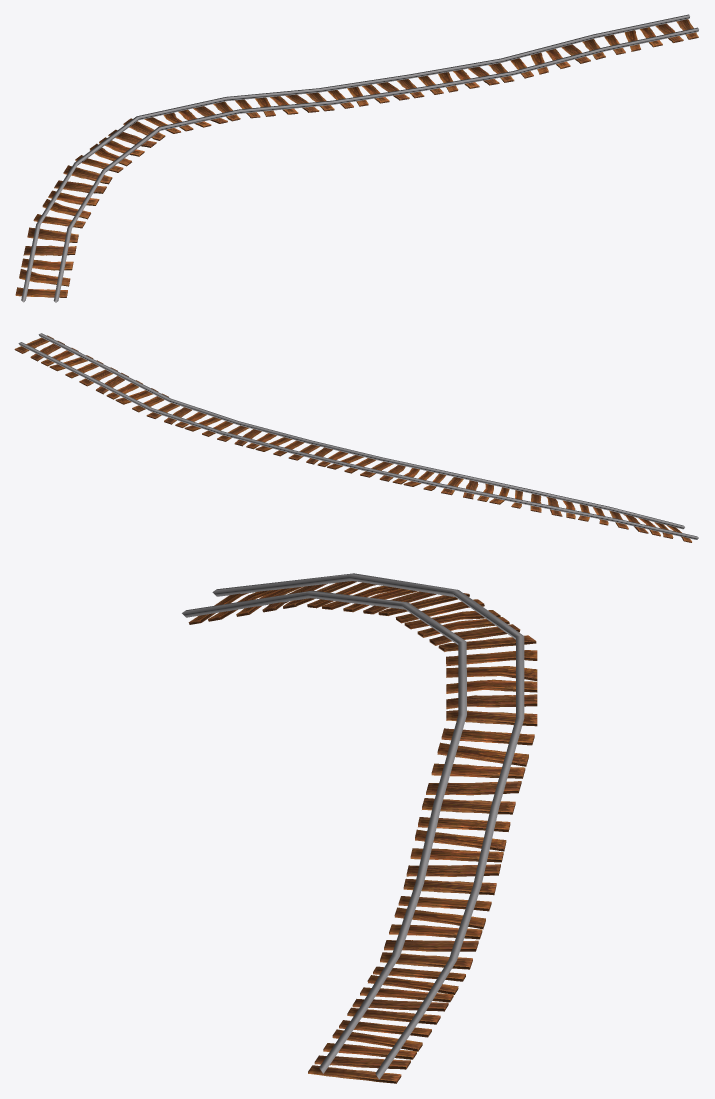
Rendered from SWORDLIGHT20_TRACK3.fbx.
The picture shows the model from 3 angles, top to bottom: view 1: azimuth 30°, elevation 25°; view 2: azimuth 150°, elevation 25°; view 3: azimuth 270°, elevation 25°; orthographic projection. The views are drawn at different scales.
Parts seen in each view (by area): view 1: SWORDLIGHT20_TRACK3; view 2: SWORDLIGHT20_TRACK3; view 3: SWORDLIGHT20_TRACK3.
Boxes of the visible parts, x1,y1,x2,y2 form: SWORDLIGHT20_TRACK3: [15, 14, 698, 302]; SWORDLIGHT20_TRACK3: [14, 333, 698, 542]; SWORDLIGHT20_TRACK3: [182, 573, 537, 1083].
Size of the model in its own units: 263731 by 28744 by 63735.
Materials: 2 (2 with a texture image).
